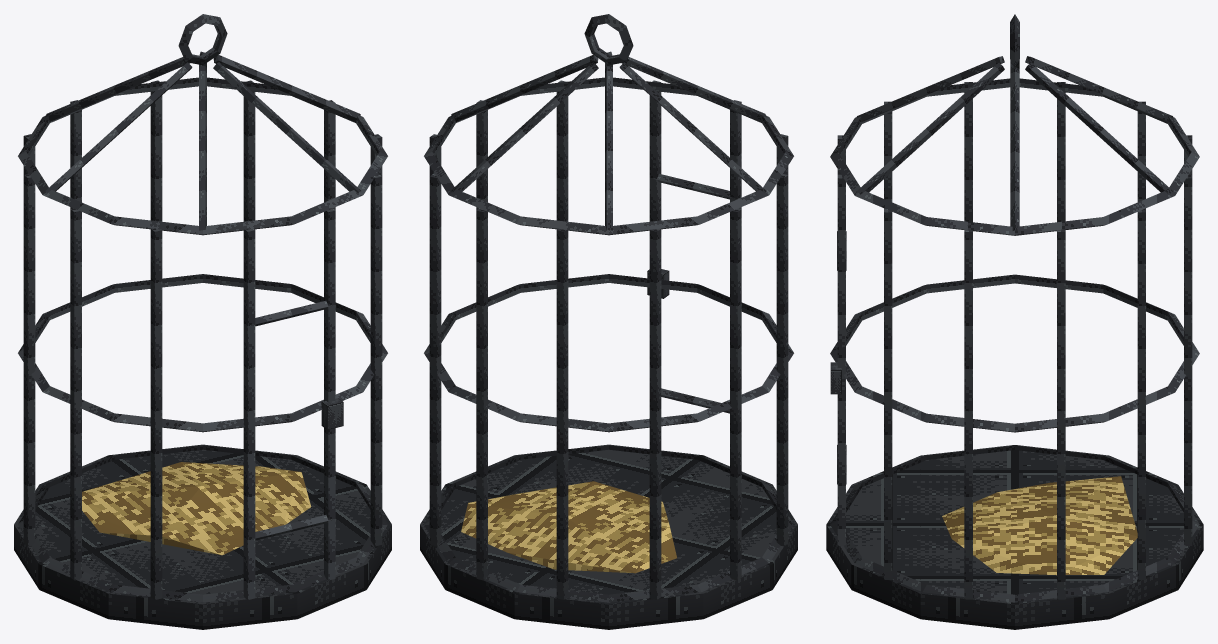
File: iron_cage.glb
3 renders of one model, left to right at view 1: azimuth 30°, elevation 25°; view 2: azimuth 150°, elevation 25°; view 3: azimuth 270°, elevation 25°, orthographic.
Parts seen in each view (by area): view 1: iron_cage, door; view 2: iron_cage, door; view 3: iron_cage, door.
Boxes of the visible parts, bbox=[...] form: iron_cage: bbox=[14, 14, 391, 629]; door: bbox=[243, 208, 343, 599]; iron_cage: bbox=[420, 14, 797, 629]; door: bbox=[647, 80, 741, 413]; iron_cage: bbox=[826, 14, 1203, 629]; door: bbox=[830, 135, 846, 545].
Bounding box in the file's own units: 2 × 3.13 × 2.
3 materials, 3 textured.
